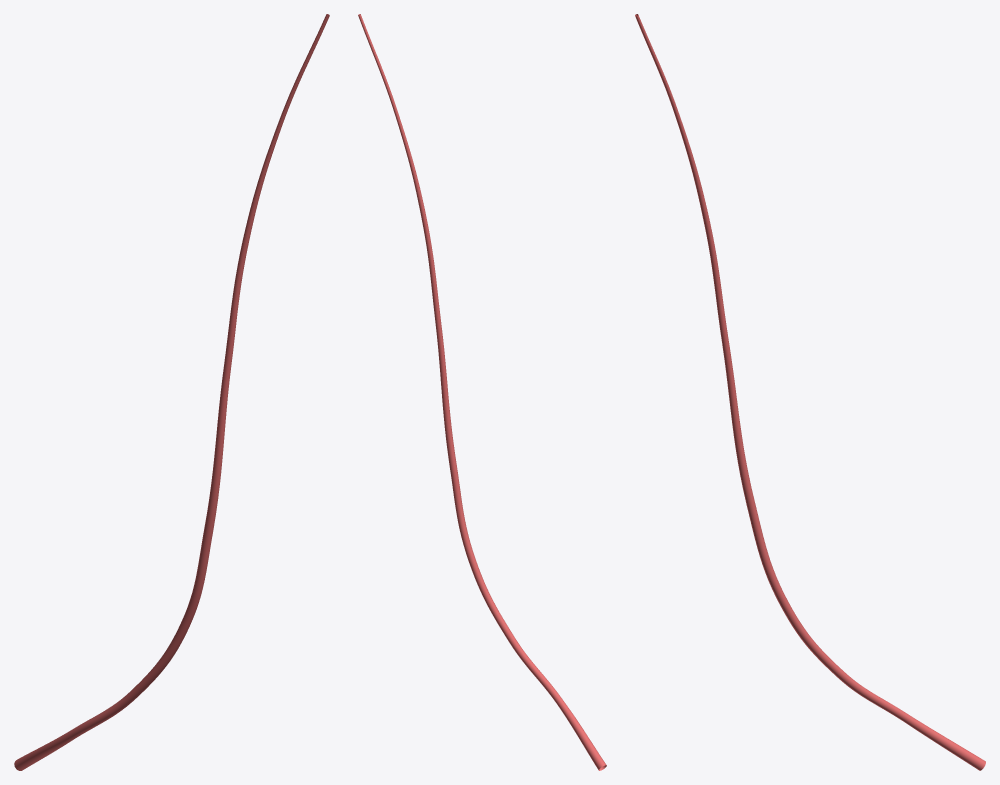
File: Inferior_epigastric_artery.r_BezierCurve.415.glb
The picture shows the model from 3 angles, left to right: view 1: azimuth 30°, elevation 25°; view 2: azimuth 210°, elevation 25°; view 3: azimuth 270°, elevation 25°; orthographic projection. The views are drawn at different scales.
Parts seen in each view (by area): view 1: Inferior_epigastric_artery.r_BezierCurve.415; view 2: Inferior_epigastric_artery.r_BezierCurve.415; view 3: Inferior_epigastric_artery.r_BezierCurve.415.
Boxes of the visible parts, x1,y1,x2,y2 form: Inferior_epigastric_artery.r_BezierCurve.415: (14, 14, 329, 770); Inferior_epigastric_artery.r_BezierCurve.415: (358, 14, 606, 770); Inferior_epigastric_artery.r_BezierCurve.415: (635, 14, 985, 770).
Bounding box in the file's own units: 0.0327 × 0.2013 × 0.0786.
